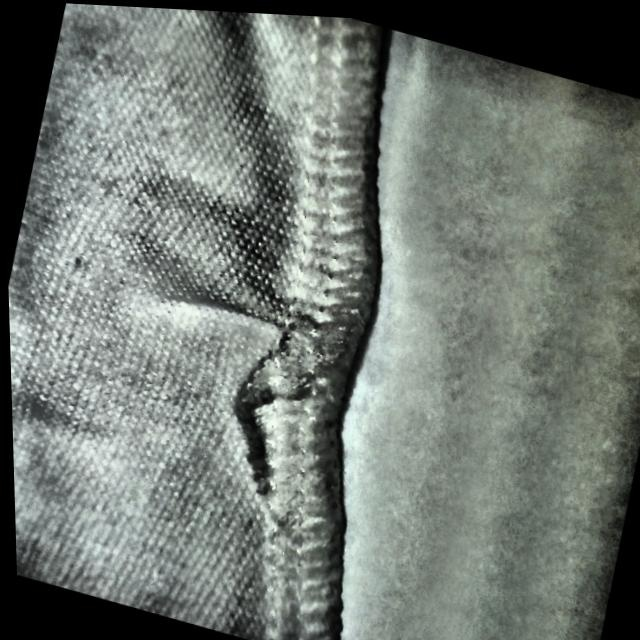seam: (123, 243, 389, 517)
